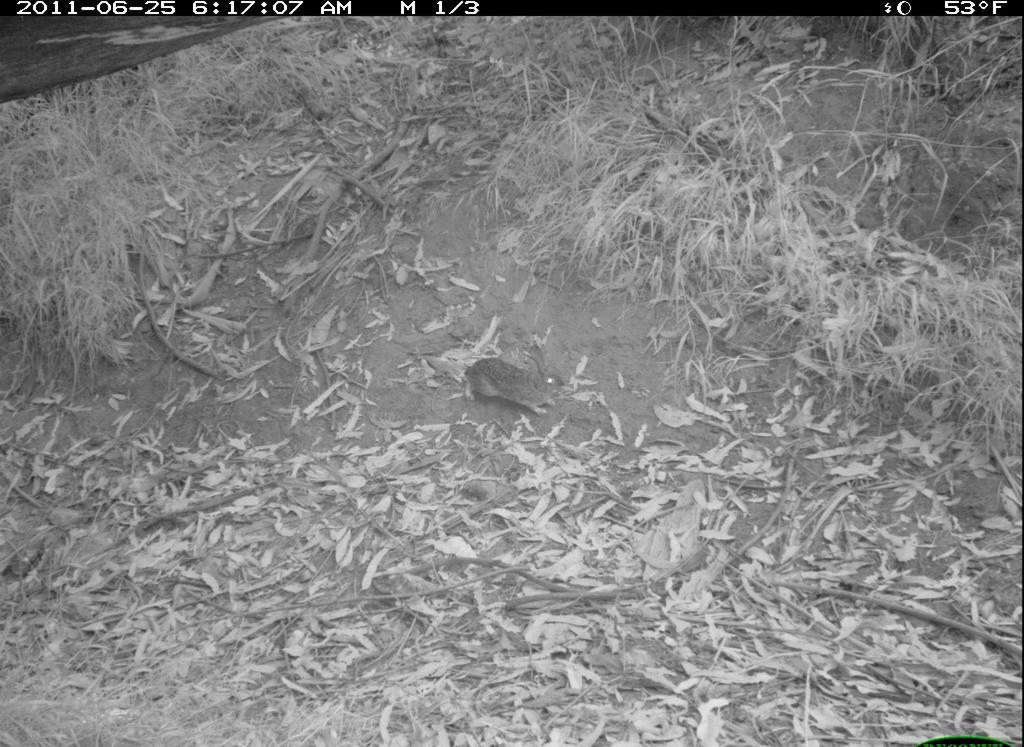rabbit: (464, 331, 587, 427)
